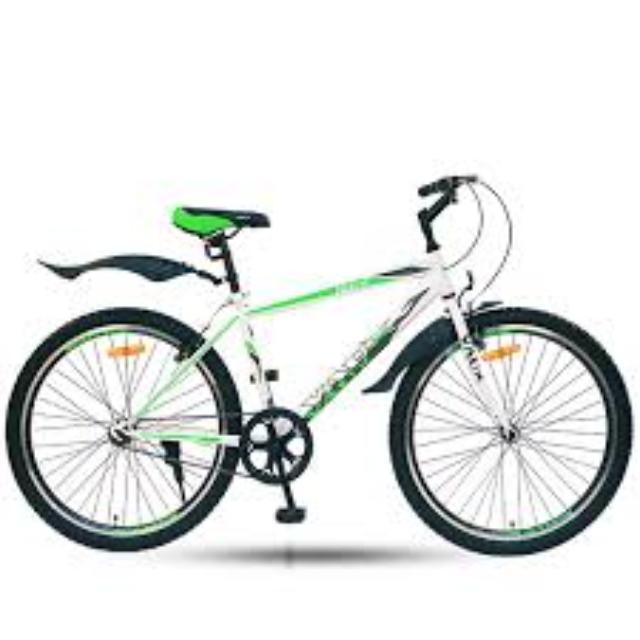obstacle: (9, 167, 627, 573)
